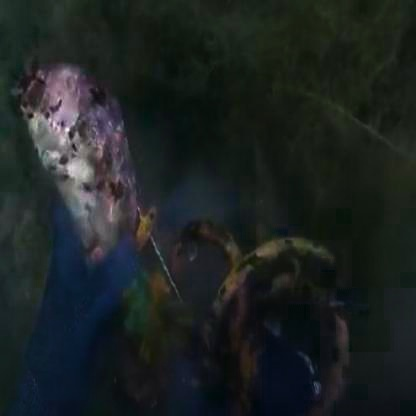misc: (44, 69, 141, 298)
